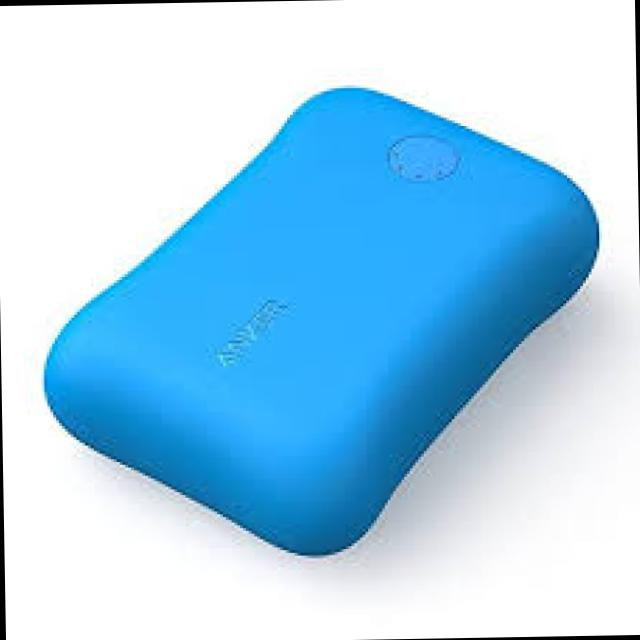power_bank: (39, 77, 612, 560)
